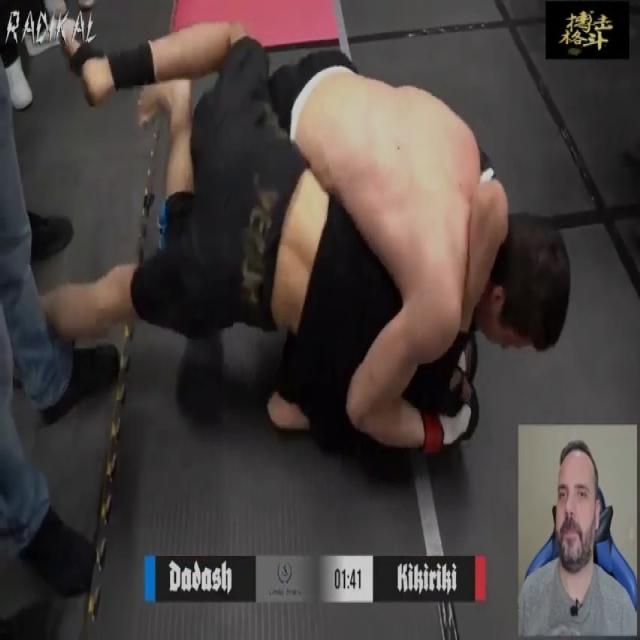fight: (40, 12, 572, 464)
non-fight: (1, 14, 117, 618), (516, 439, 636, 639)
